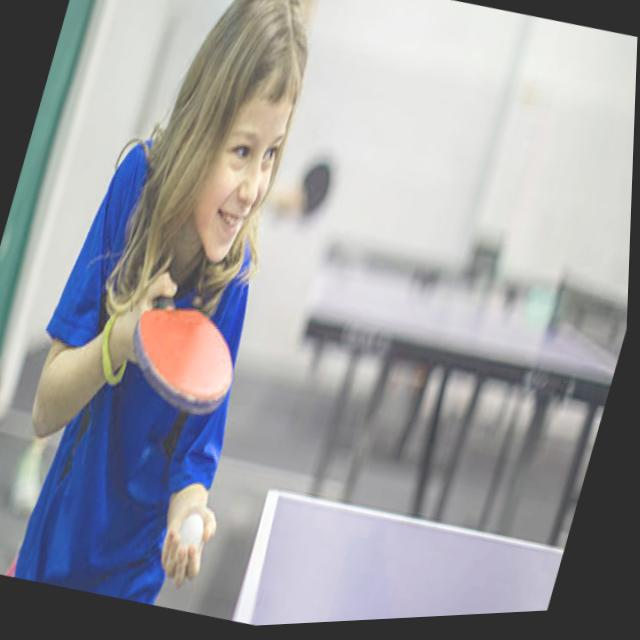TT Racket: (120, 293, 249, 437)
TT Table: (232, 493, 563, 625)
